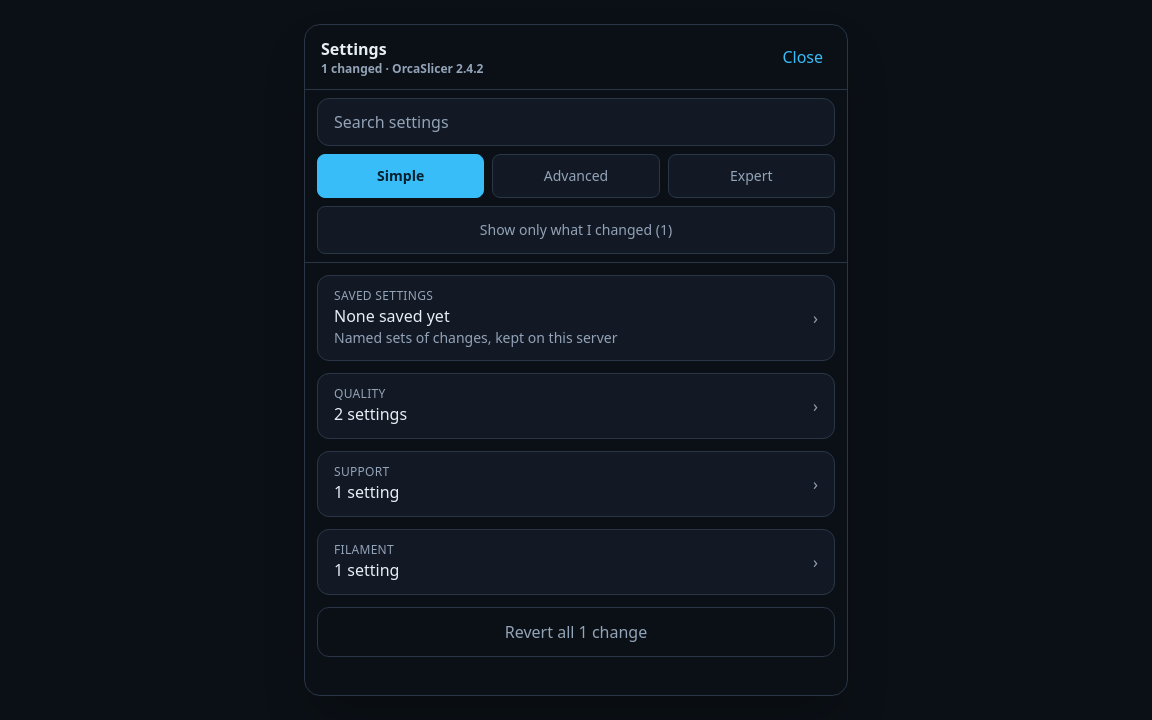
Scenario: the settings sheet › filters to just what was changed, whatever the disclosure level
The image size is (1152, 720).
Click the button with test id "modified-only". click: (576, 230)
box: [317,206,835,254]
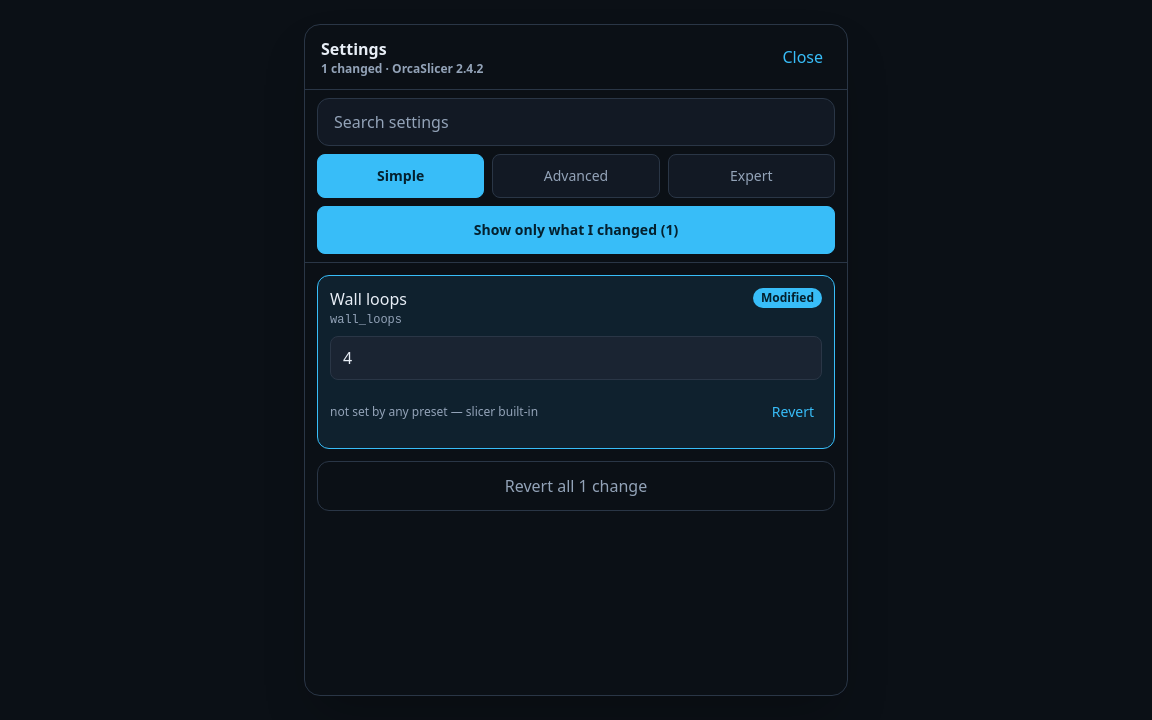
Check: the element with test id "setting-wall_loops" is shown, box [317,275,835,449]
